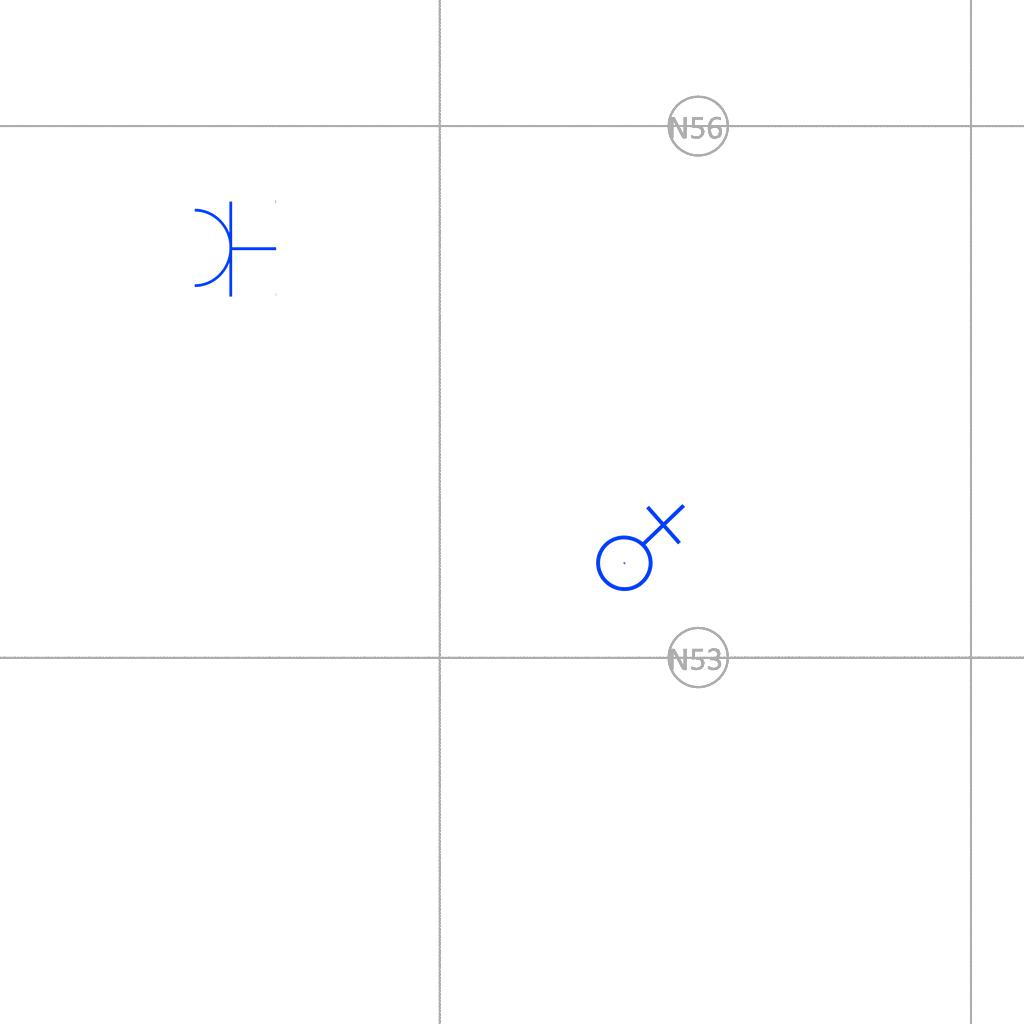Elektroanschluss_allgemein_230V_Geraeteanschlussdose_230V: (587, 499, 686, 593)
Schukosteckdose_einfach: (190, 198, 277, 298)
